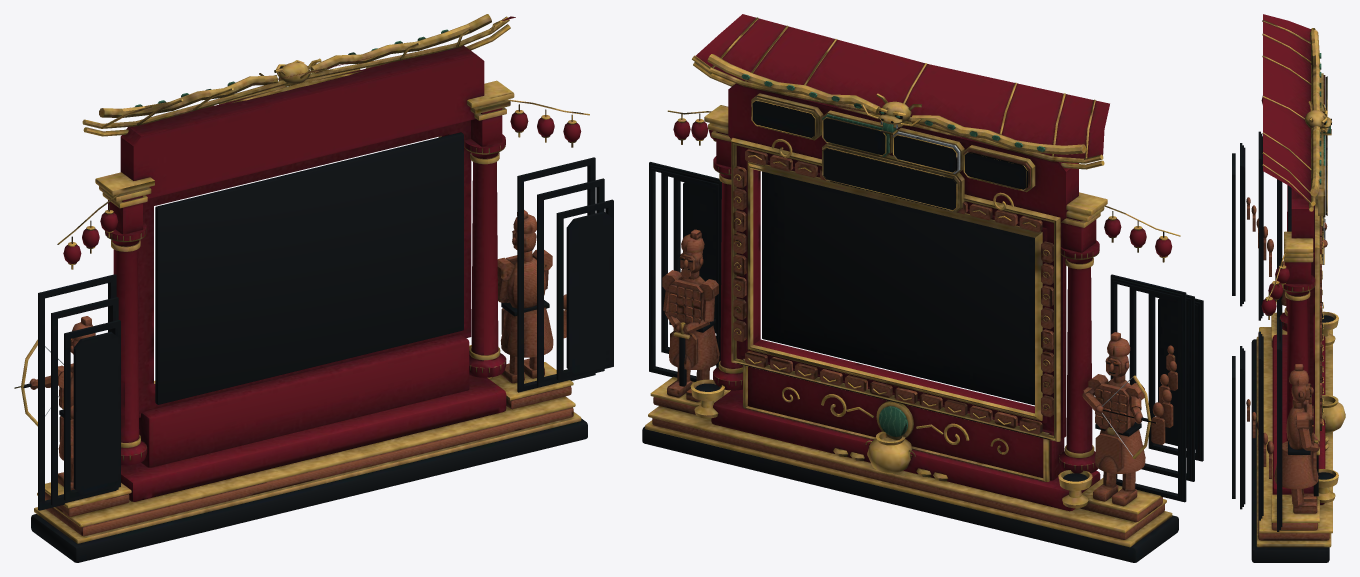
3 views of the same model, side by side, from view 1: azimuth 30°, elevation 25°; view 2: azimuth 150°, elevation 25°; view 3: azimuth 270°, elevation 25° (orthographic). The views are drawn at different scales.
Visible parts, largest first — view 1: Uniform_charcoal, Vermilion_lacquer, Imperial_gold, Fired_terracotta; view 2: Uniform_charcoal, Vermilion_lacquer, Imperial_gold, Fired_terracotta, Imperial_jade; view 3: Vermilion_lacquer, Imperial_gold, Uniform_charcoal, Fired_terracotta, Imperial_jade.
Part boxes in pixels (left/top/right/bottom): Uniform_charcoal: left=23, top=66, right=613, bottom=562; Vermilion_lacquer: left=63, top=16, right=581, bottom=501; Imperial_gold: left=14, top=14, right=589, bottom=543; Fired_terracotta: left=29, top=210, right=573, bottom=536; Uniform_charcoal: left=642, top=101, right=1203, bottom=562; Vermilion_lacquer: left=673, top=14, right=1172, bottom=511; Imperial_gold: left=645, top=17, right=1180, bottom=547; Fired_terracotta: left=652, top=148, right=1177, bottom=539; Imperial_jade: left=741, top=74, right=1045, bottom=436; Vermilion_lacquer: left=1261, top=14, right=1325, bottom=504; Imperial_gold: left=1256, top=20, right=1345, bottom=547; Uniform_charcoal: left=1232, top=77, right=1334, bottom=562; Fired_terracotta: left=1246, top=75, right=1329, bottom=540; Imperial_jade: left=1319, top=53, right=1330, bottom=184.
Bounding box in the file's own units: 12.89 × 9.61 × 2.7.
Materials: 6 (6 with a texture image).
